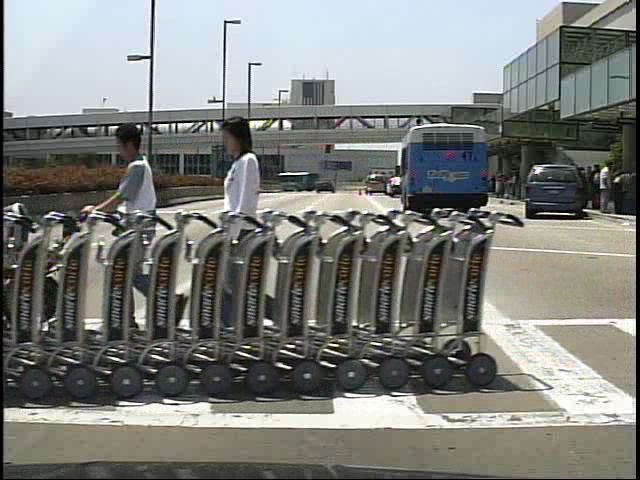person: (211, 113, 292, 350), (89, 120, 174, 339), (597, 160, 618, 215), (589, 164, 605, 214)
